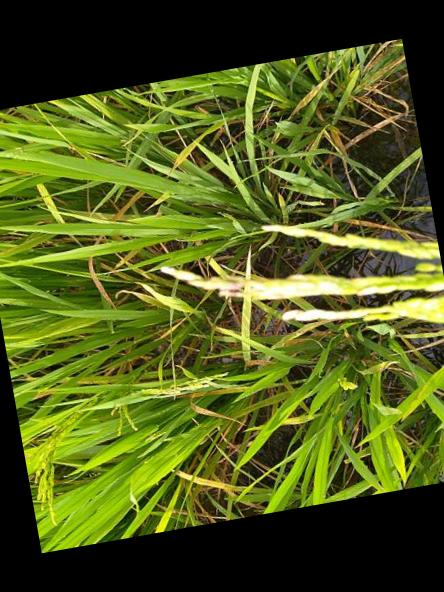Panicle Blight: (207, 275, 249, 297)
